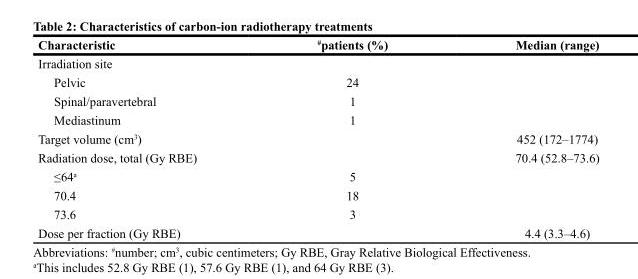table: (37, 37, 598, 239)
table column: (37, 37, 256, 239), (256, 37, 450, 239), (450, 37, 598, 239)
table column header: (37, 37, 598, 53)
table projected row header: (37, 53, 598, 72)
table row: (37, 53, 598, 72), (37, 72, 598, 91), (37, 91, 598, 110), (37, 128, 598, 147), (37, 147, 598, 166), (37, 166, 598, 185), (37, 185, 598, 204), (37, 204, 598, 223), (37, 110, 598, 128), (37, 37, 598, 53), (37, 223, 598, 239)
